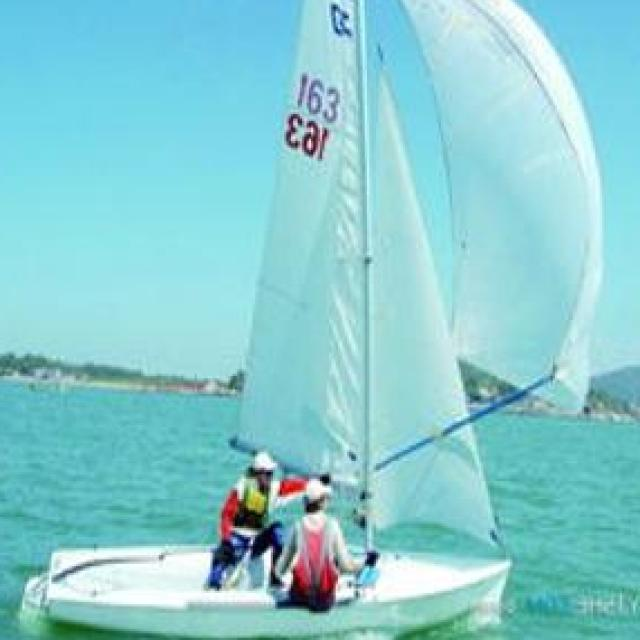sailboat: (45, 0, 602, 631)
